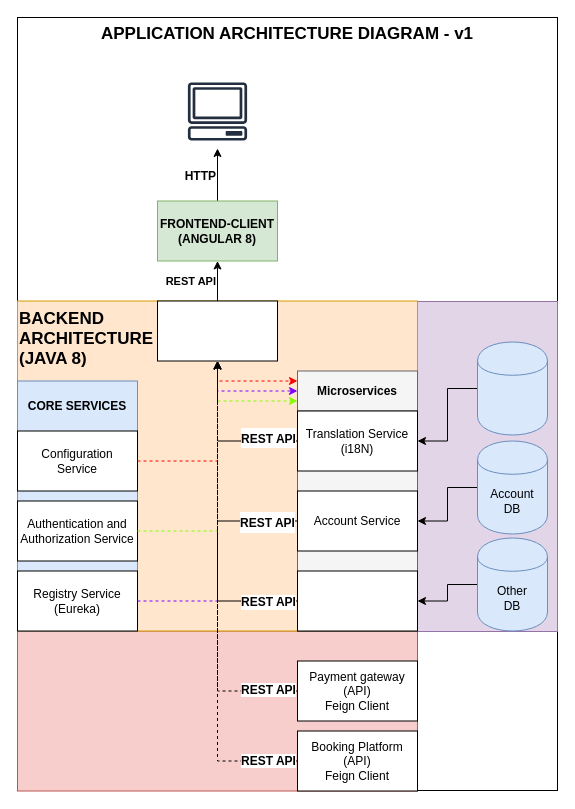
Some shapes in this 575 by 809 pixel diagram are drawn without their labels. The shapes that lost their labels are listed below. From the top down, each one's box as (x1, y1, x2, y2) in pixels, then its label:
(180, 74, 254, 148): Client
(156, 300, 278, 361): API Gateway Service (Zuul)
(476, 341, 548, 435): Translations DB
(416, 300, 558, 632): DATABASE
(296, 570, 418, 631): New Services Related to Business Logic needs...
(16, 630, 418, 791): EXTERNAL SYSTEMS
